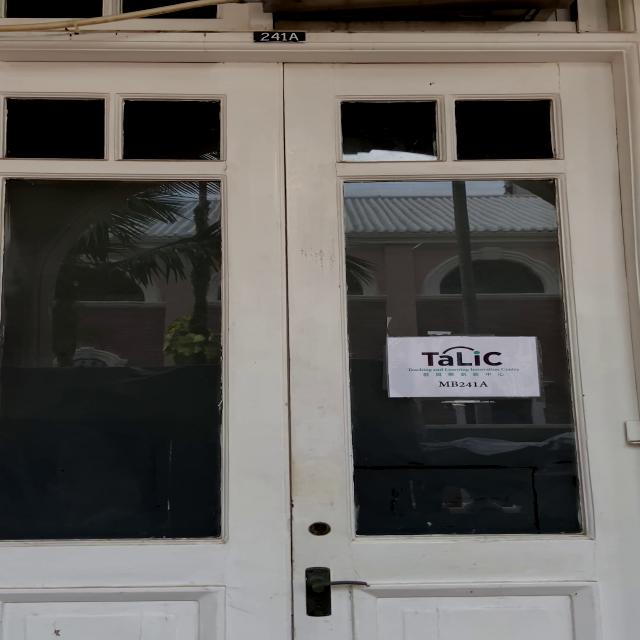room241a: (248, 30, 310, 46)
